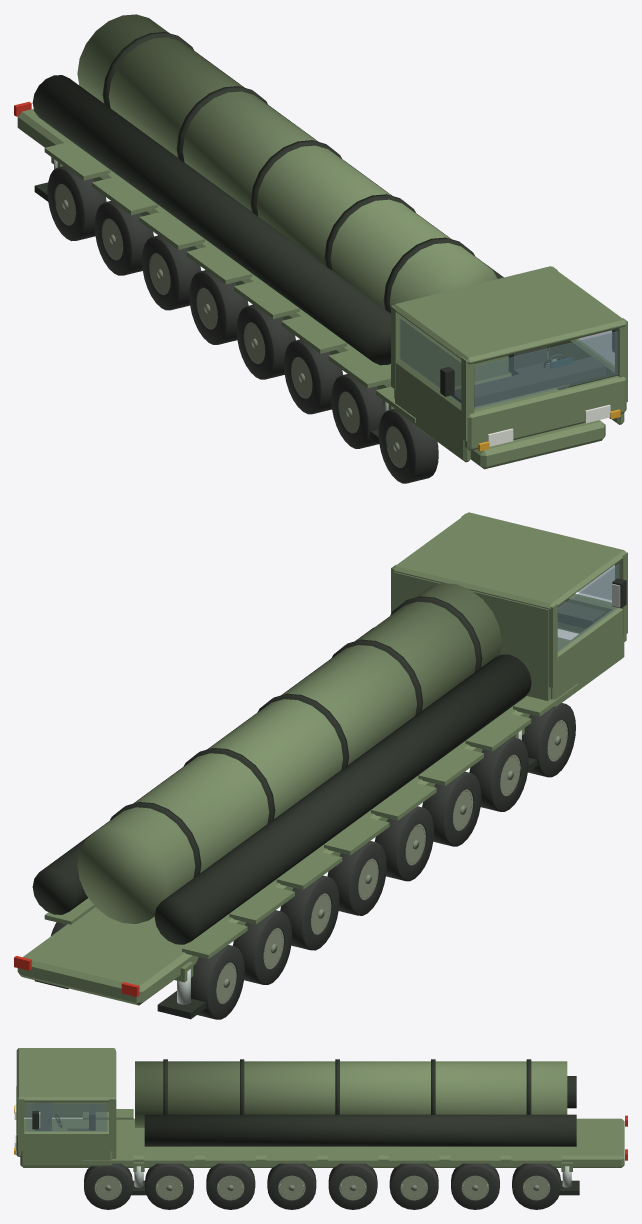
Rendered from fleet-df41.glb.
The picture shows the model from 3 angles, top to bottom: view 1: azimuth 30°, elevation 25°; view 2: azimuth 150°, elevation 25°; view 3: azimuth 270°, elevation 25°; orthographic projection. The views are drawn at different scales.
Visible parts, largest first — view 1: Surface_CarRoot_Paint, TransportTube, Surface_CarRoot_BlackTrim, Surface_CarRoot_Glass, Body, Interior_CarRoot_InteriorDark, WheelFrontR_Tyre, WheelRear2R_Tyre, WheelFront3R_Tyre, WheelRear3R_Tyre, WheelRearR_Tyre, WheelFront4R_Tyre (+8 smaller); view 2: TransportTube, Surface_CarRoot_Paint, Surface_CarRoot_BlackTrim, Body, Surface_CarRoot_Glass, WheelFront4R_Tyre, WheelRearR_Tyre, WheelFront3R_Tyre, WheelRear3R_Tyre, WheelFront2R_Tyre, WheelRear2R_Tyre, WheelRear4R_Tyre (+8 smaller); view 3: TransportTube, Surface_CarRoot_Paint, Surface_CarRoot_BlackTrim, Body, Surface_CarRoot_Glass, WheelFront4L_Tyre, WheelRear2L_Tyre, WheelRearL_Tyre, WheelRear4L_Tyre, WheelFront3L_Tyre, WheelRear3L_Tyre, WheelFront2L_Tyre (+16 smaller).
Part boxes in pixels (x1,y1,x2,y2): Surface_CarRoot_Paint: (44, 141, 627, 462); TransportTube: (77, 14, 497, 309); Surface_CarRoot_BlackTrim: (32, 51, 614, 396); Surface_CarRoot_Glass: (399, 317, 618, 409); Body: (17, 109, 605, 469); Interior_CarRoot_InteriorDark: (451, 346, 605, 406); WheelFrontR_Tyre: (378, 408, 438, 483); WheelRear2R_Tyre: (142, 235, 201, 310); WheelFront3R_Tyre: (284, 339, 343, 414); WheelRear3R_Tyre: (94, 201, 153, 275); WheelRearR_Tyre: (189, 270, 248, 344); WheelFront4R_Tyre: (236, 304, 295, 379); TransportTube: (77, 583, 501, 923); Surface_CarRoot_Paint: (44, 512, 627, 959); Surface_CarRoot_BlackTrim: (32, 578, 626, 944); Body: (17, 637, 569, 1005); Surface_CarRoot_Glass: (557, 564, 619, 651); WheelFront4R_Tyre: (374, 806, 433, 881); WheelRearR_Tyre: (327, 841, 386, 915); WheelFront3R_Tyre: (422, 771, 481, 846); WheelRear3R_Tyre: (233, 910, 292, 984); WheelFront2R_Tyre: (469, 737, 528, 811); WheelRear2R_Tyre: (280, 875, 339, 950); WheelRear4R_Tyre: (191, 945, 244, 1019); TransportTube: (135, 1061, 567, 1127); Surface_CarRoot_Paint: (16, 1048, 561, 1166); Surface_CarRoot_BlackTrim: (32, 1076, 576, 1146); Body: (20, 1118, 624, 1167); Surface_CarRoot_Glass: (25, 1103, 107, 1131); WheelFront4L_Tyre: (267, 1163, 316, 1209); WheelRear2L_Tyre: (389, 1163, 438, 1209); WheelRearL_Tyre: (328, 1163, 377, 1209); WheelRear4L_Tyre: (512, 1163, 560, 1209); WheelFront3L_Tyre: (206, 1163, 255, 1209); WheelRear3L_Tyre: (451, 1163, 499, 1209); WheelFront2L_Tyre: (145, 1163, 193, 1209).
Bounding box in the file's own units: 3.54 × 3.53 × 16.06.
